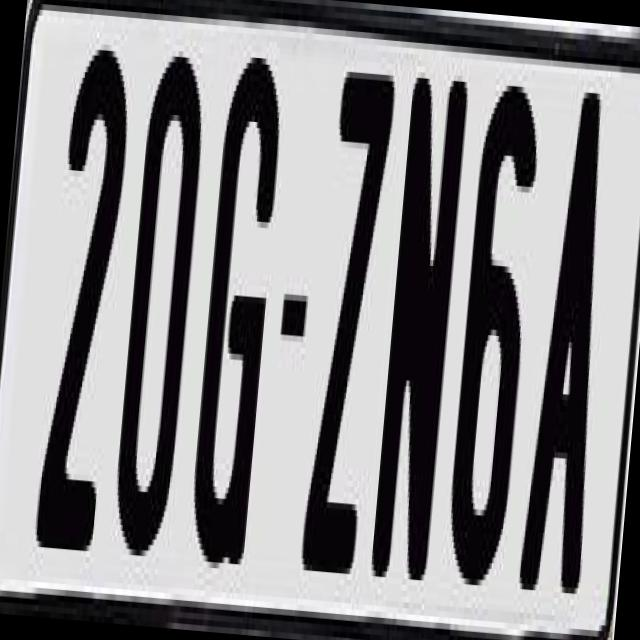0: (104, 54, 212, 581)
2: (34, 30, 144, 546)
6: (442, 72, 546, 593)
A: (514, 77, 624, 594)
G: (185, 50, 289, 588)
N: (364, 59, 468, 592)
Z: (300, 66, 404, 574)
